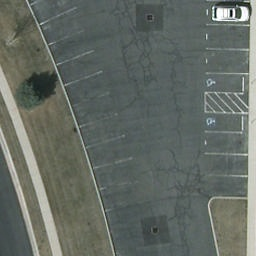car: (211, 5, 251, 22)
